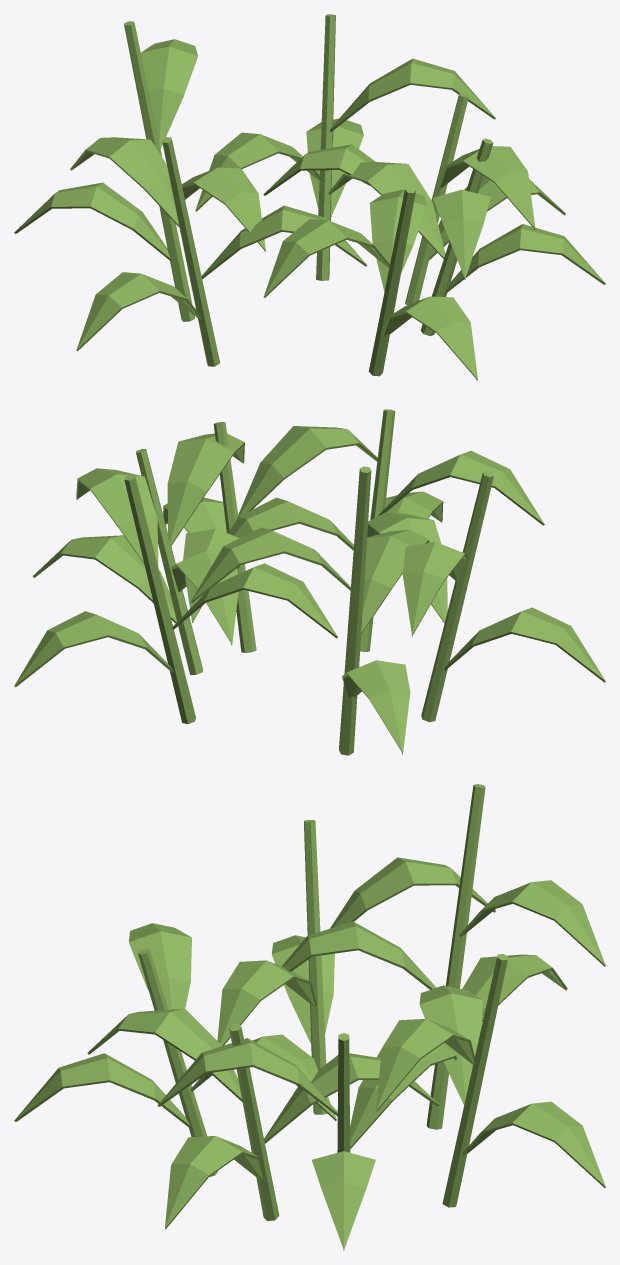
The model's file is grain_young.glb.
3 views of the same model, one above another, from view 1: azimuth 30°, elevation 25°; view 2: azimuth 150°, elevation 25°; view 3: azimuth 270°, elevation 25° (orthographic). The views are drawn at different scales.
Parts seen in each view (by area): view 1: Young grain • six shoots; view 2: Young grain • six shoots; view 3: Young grain • six shoots.
Boxes of the visible parts, left/top/right/bottom form: Young grain • six shoots: left=14, top=14, right=605, bottom=380; Young grain • six shoots: left=14, top=409, right=605, bottom=755; Young grain • six shoots: left=14, top=784, right=605, bottom=1250.
Size of the model in its own units: 0.7371 by 0.4003 by 0.6639.
